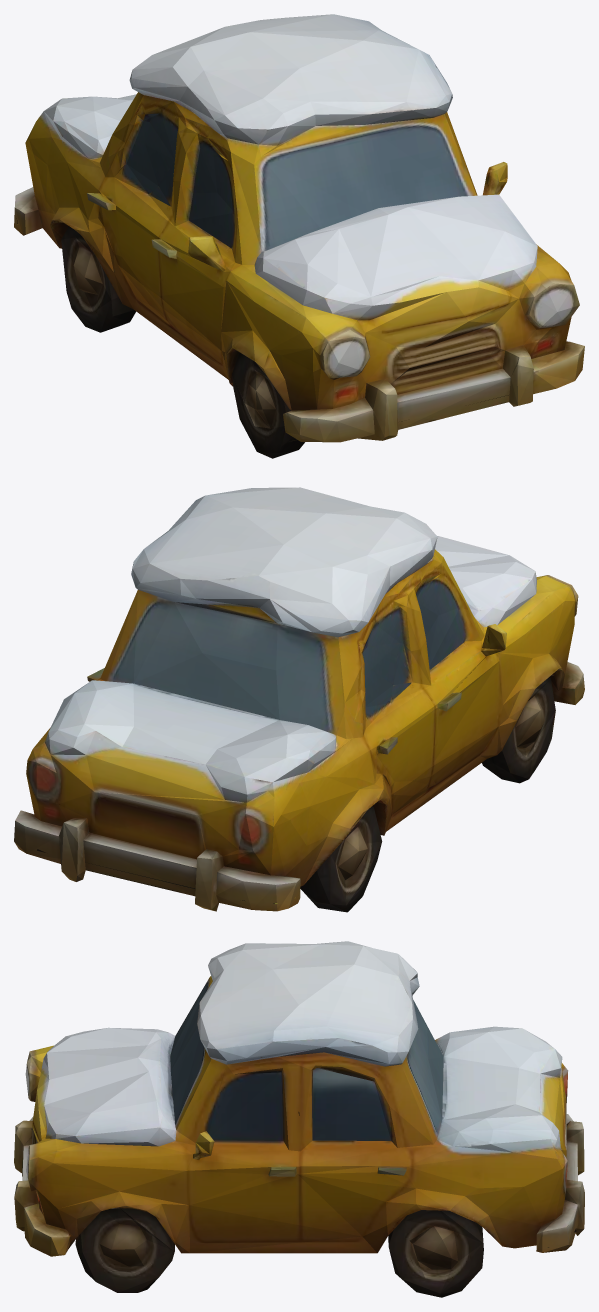
File: car.glb
3 views of the same model, one above another, from view 1: azimuth 30°, elevation 25°; view 2: azimuth 150°, elevation 25°; view 3: azimuth 270°, elevation 25° (orthographic). The views are drawn at different scales.
Parts seen in each view (by area): view 1: geometry_0; view 2: geometry_0; view 3: geometry_0.
Boxes of the visible parts, x1,y1,x2,y2 form: geometry_0: [14, 14, 584, 458]; geometry_0: [14, 487, 584, 912]; geometry_0: [14, 941, 584, 1297].
Bounding box in the file's own units: 0.5668 × 0.5175 × 0.9969.
Materials: 1 (1 with a texture image).
